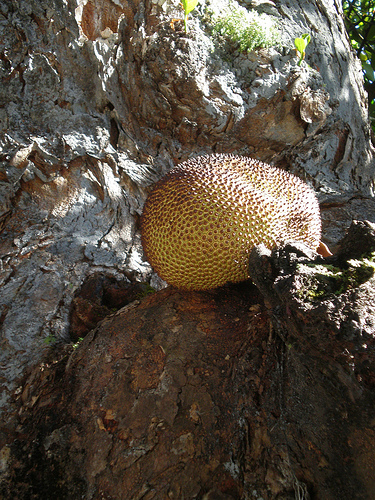jackfruit: (138, 151, 320, 296)
